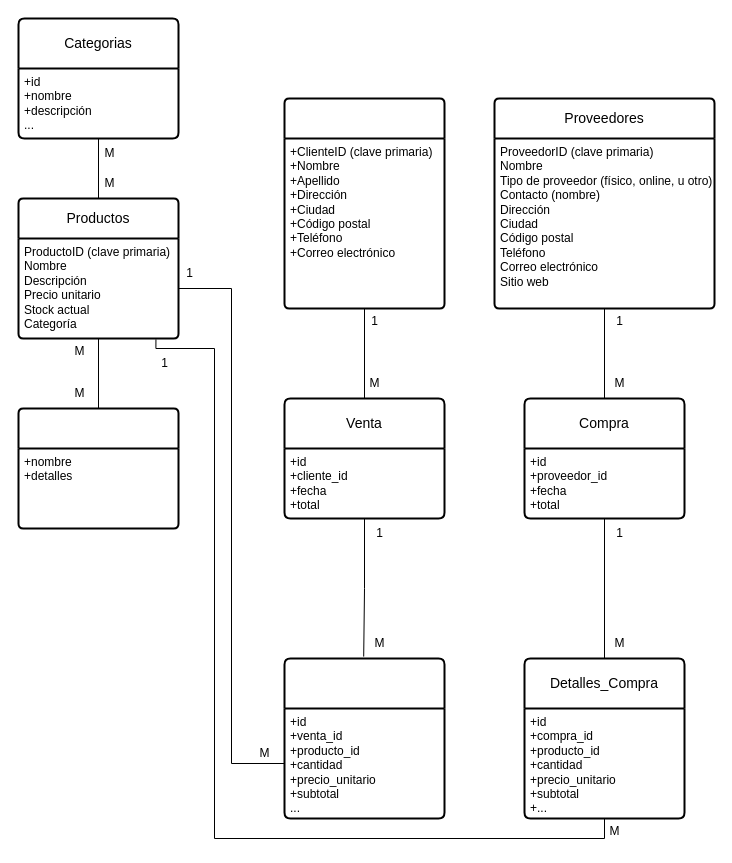
This 732x863 diagram has some shape labels left out. Here are the shapes that lost their labels. From the top down, the box of each, then its label:
(283, 97, 445, 309): Clientes
(17, 407, 179, 529): Ubicaciones
(283, 657, 445, 819): Detalles_Venta
